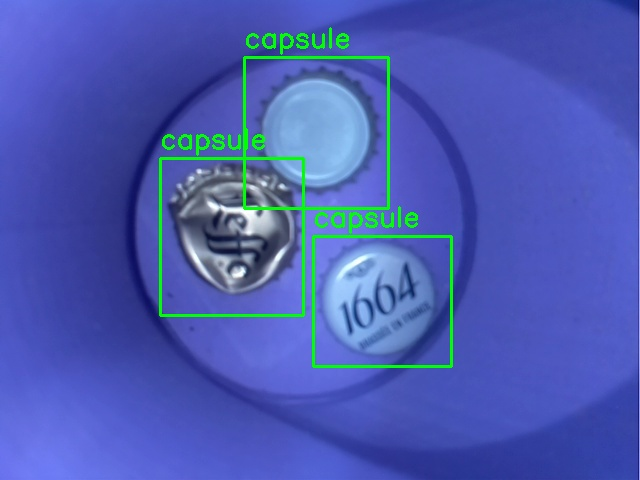capsule: (160, 158, 303, 315), (244, 57, 388, 208), (313, 236, 451, 366)
